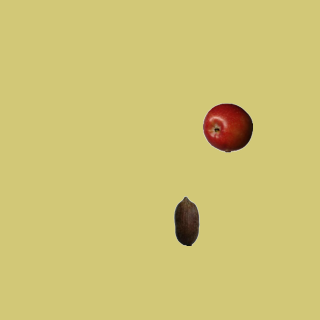Apple Braeburn: (202, 102, 252, 152)
Nut Pecan: (161, 195, 211, 245)
